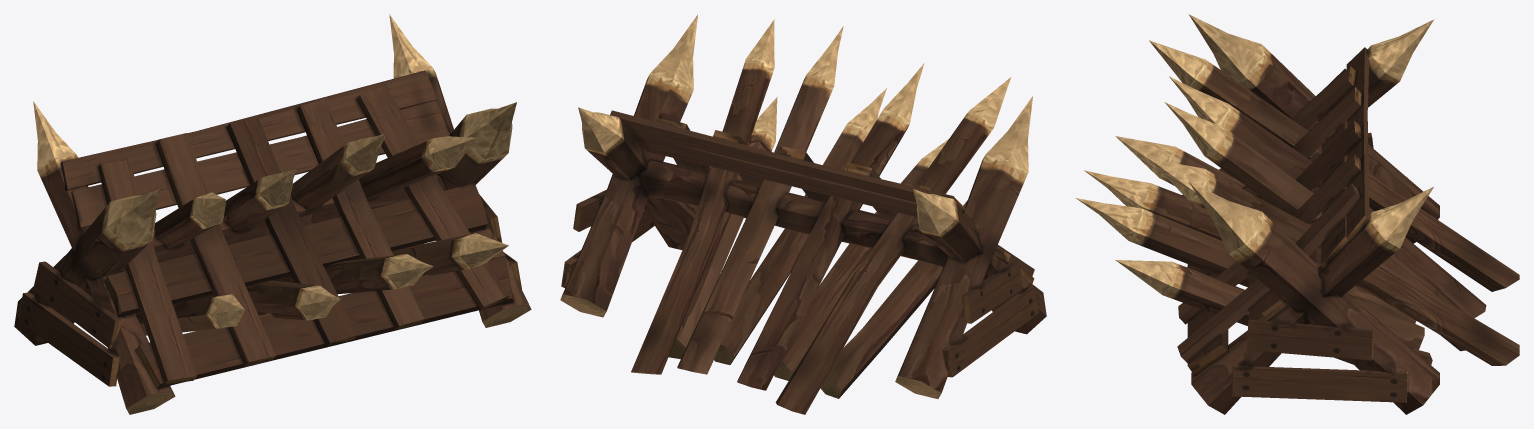
Rendered from barricade_d.FBX.
3 renders of one model, left to right at view 1: azimuth 30°, elevation 25°; view 2: azimuth 150°, elevation 25°; view 3: azimuth 270°, elevation 25°, orthographic. The views are drawn at different scales.
Parts seen in each view (by area): view 1: barricade_d; view 2: barricade_d; view 3: barricade_d.
Part boxes in pixels (x1,y1,x2,y2): barricade_d: [14, 14, 531, 414]; barricade_d: [560, 14, 1046, 414]; barricade_d: [1076, 14, 1519, 414].
Bounding box in the file's own units: 83.43 × 50.33 × 78.49.
